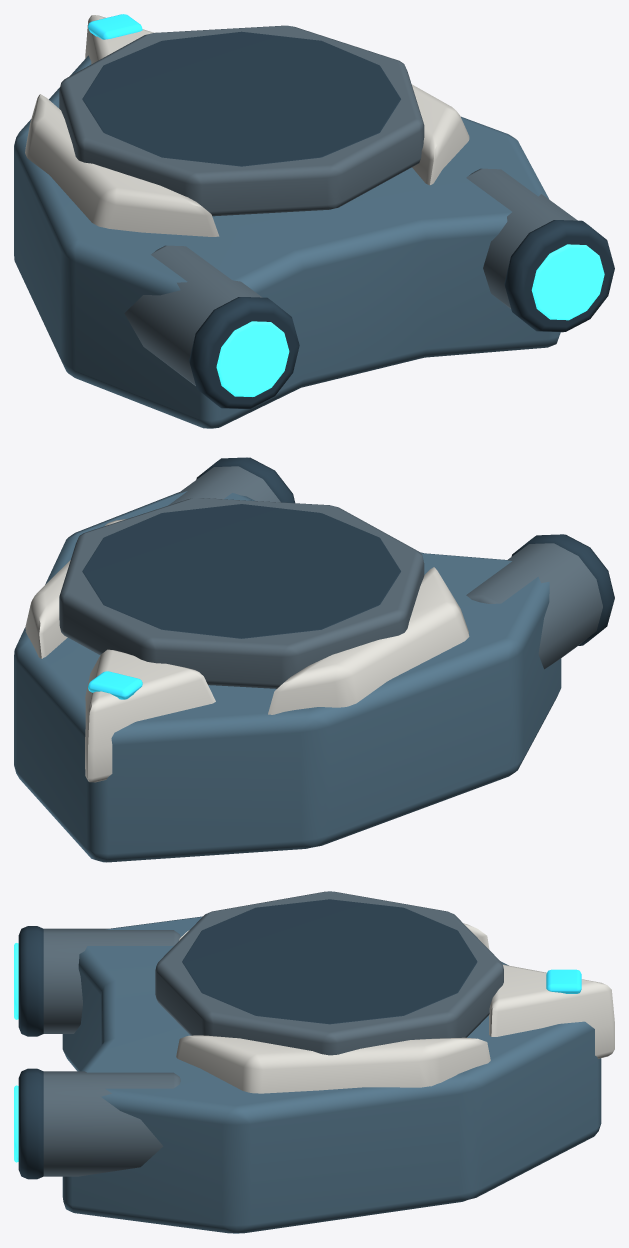
The model's file is weapon_drone.glb.
3 views of the same model, one above another, from view 1: azimuth 30°, elevation 25°; view 2: azimuth 150°, elevation 25°; view 3: azimuth 270°, elevation 25° (orthographic). The views are drawn at different scales.
Visible parts, largest first — view 1: HullArmor, Engine01Mesh, Engine02Mesh; view 2: HullArmor, Engine01Mesh, Engine02Mesh; view 3: HullArmor, Engine02Mesh, Engine01Mesh.
Boxes of the visible parts, left/top/right/bottom form: HullArmor: left=14, top=14, right=560, bottom=428; Engine01Mesh: left=124, top=245, right=299, bottom=408; Engine02Mesh: left=466, top=168, right=614, bottom=332; HullArmor: left=14, top=491, right=561, bottom=862; Engine01Mesh: left=466, top=534, right=614, bottom=669; Engine02Mesh: left=168, top=457, right=295, bottom=505; HullArmor: left=62, top=891, right=614, bottom=1233; Engine02Mesh: left=14, top=1068, right=180, bottom=1179; Engine01Mesh: left=14, top=926, right=180, bottom=1036.
Bounding box in the file's own units: 1.92 × 0.77 × 2.39.
